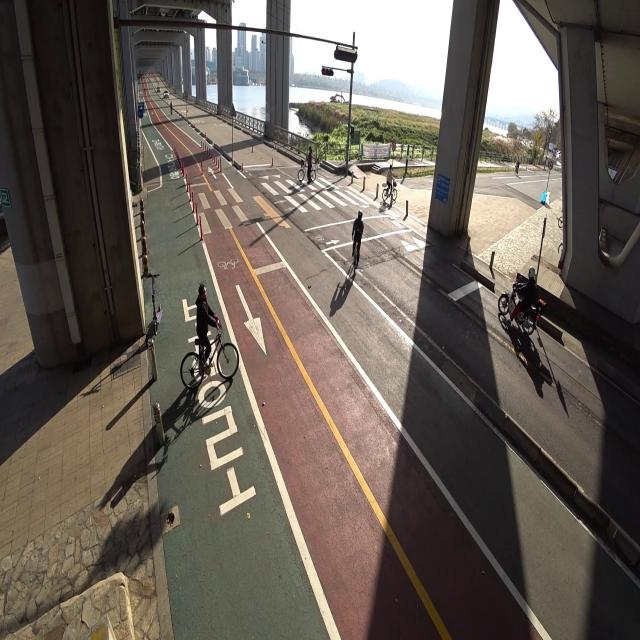Car: (162, 89, 170, 101), (156, 83, 160, 98)
Motorcycle: (495, 264, 545, 339)
